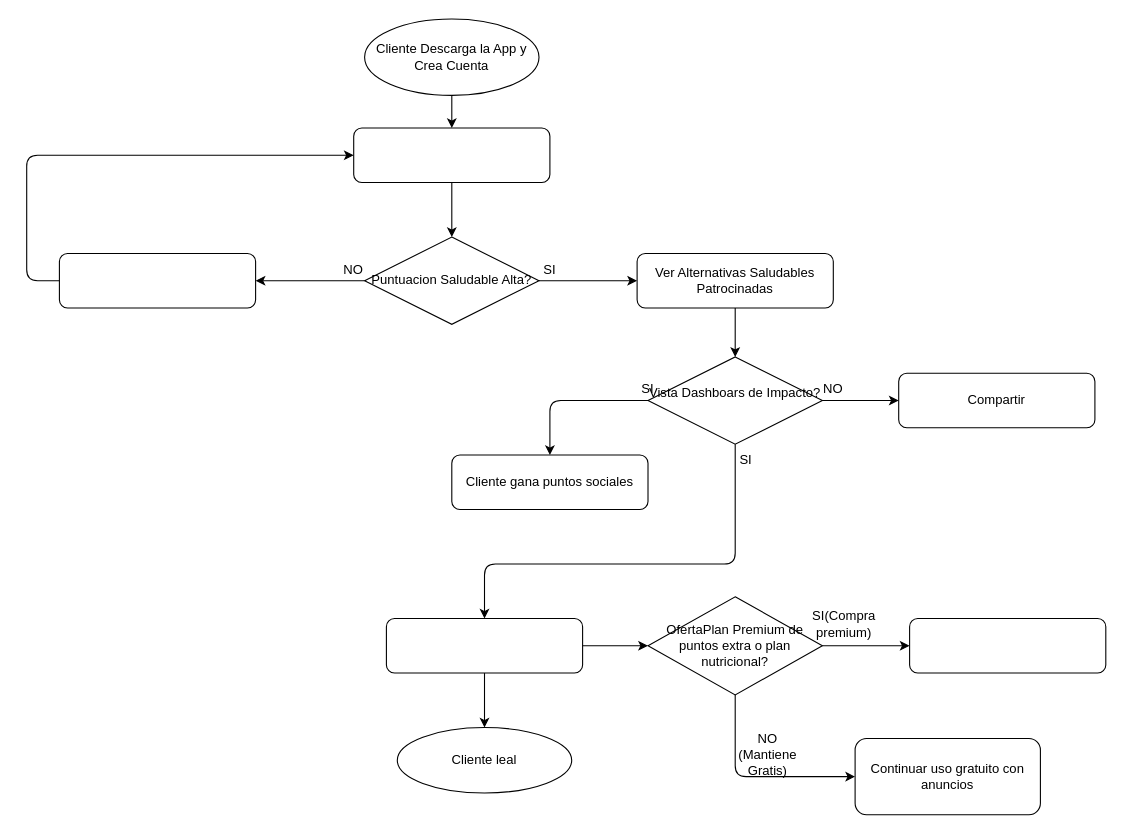
This 1125x834 diagram has some shape labels left out. The shapes that lost their labels are listed below. From the top down, each one's centre as x and y in pixels, then its label:
(x=451, y=155): Registro (Perfil Nutricional)
(x=157, y=280): Cliente Escanea Alimento
(x=484, y=645): Actualizar perfil de usuario y datos
(x=1007, y=645): Generar ingreso recurrente (Suscripcion)
